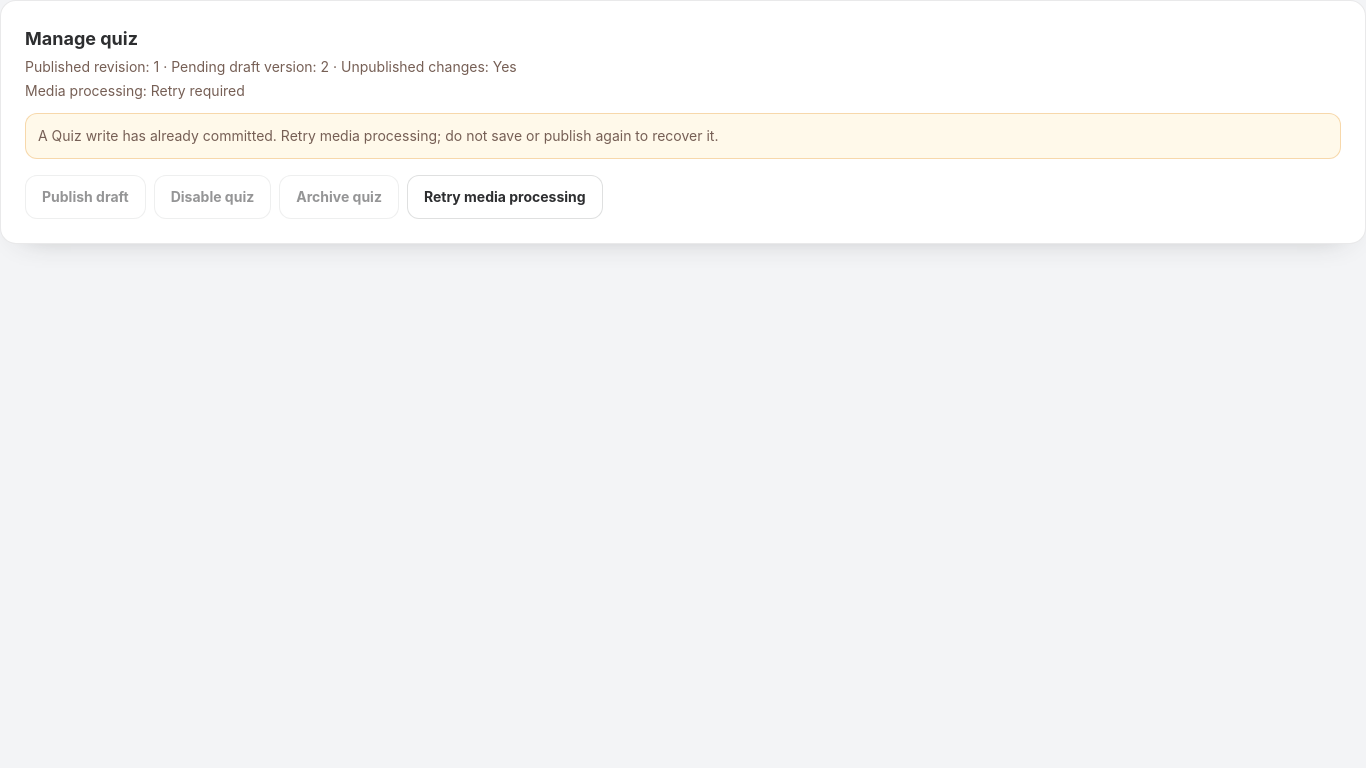
Test: General Practice management actions › keeps media retry visible when reconciliation remains pending
Click the button "Retry media processing" at (505, 197), box [407,175,603,219]
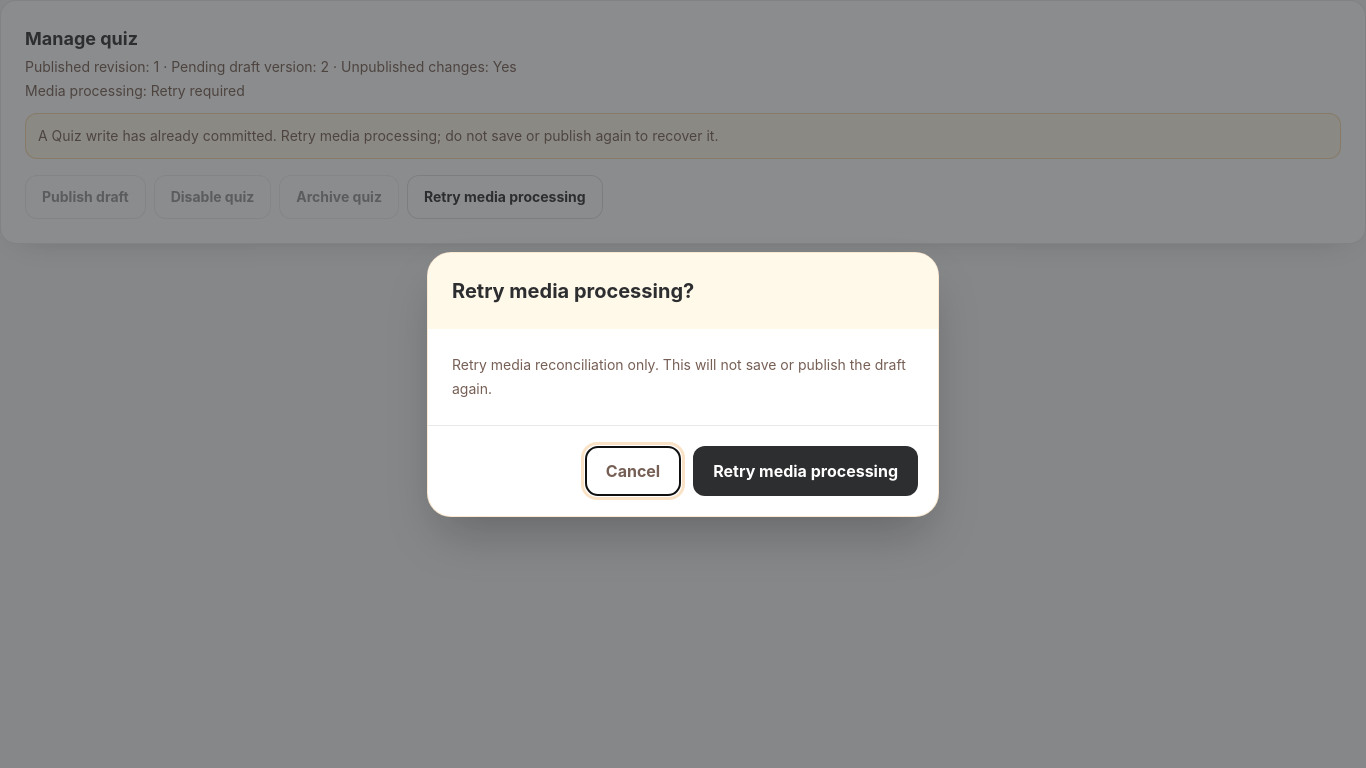
Click the button "Retry media processing" at (806, 470), box [693,446,918,496]
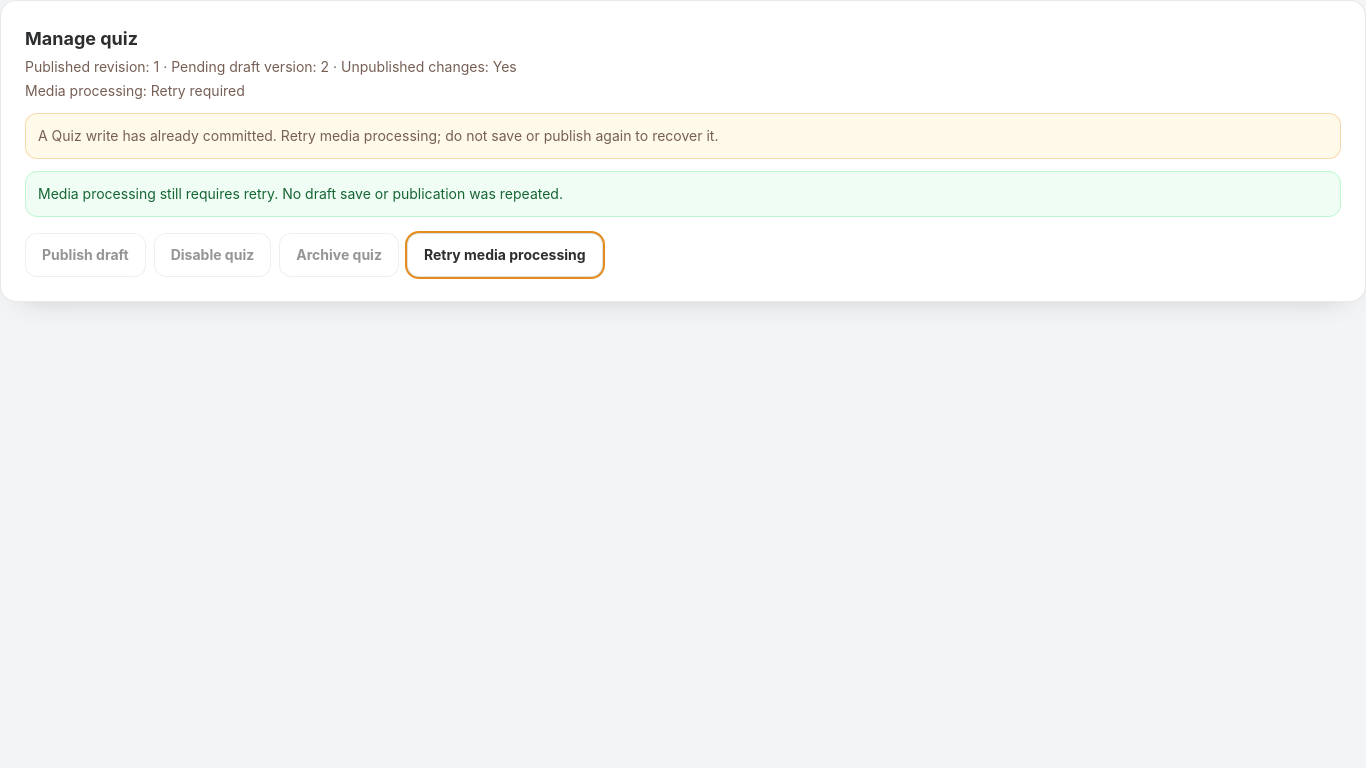
Expected: the button "Retry media processing" is shown, [407,233,603,277]
Result: the text "still requires retry" is shown at [38,185,563,202]
